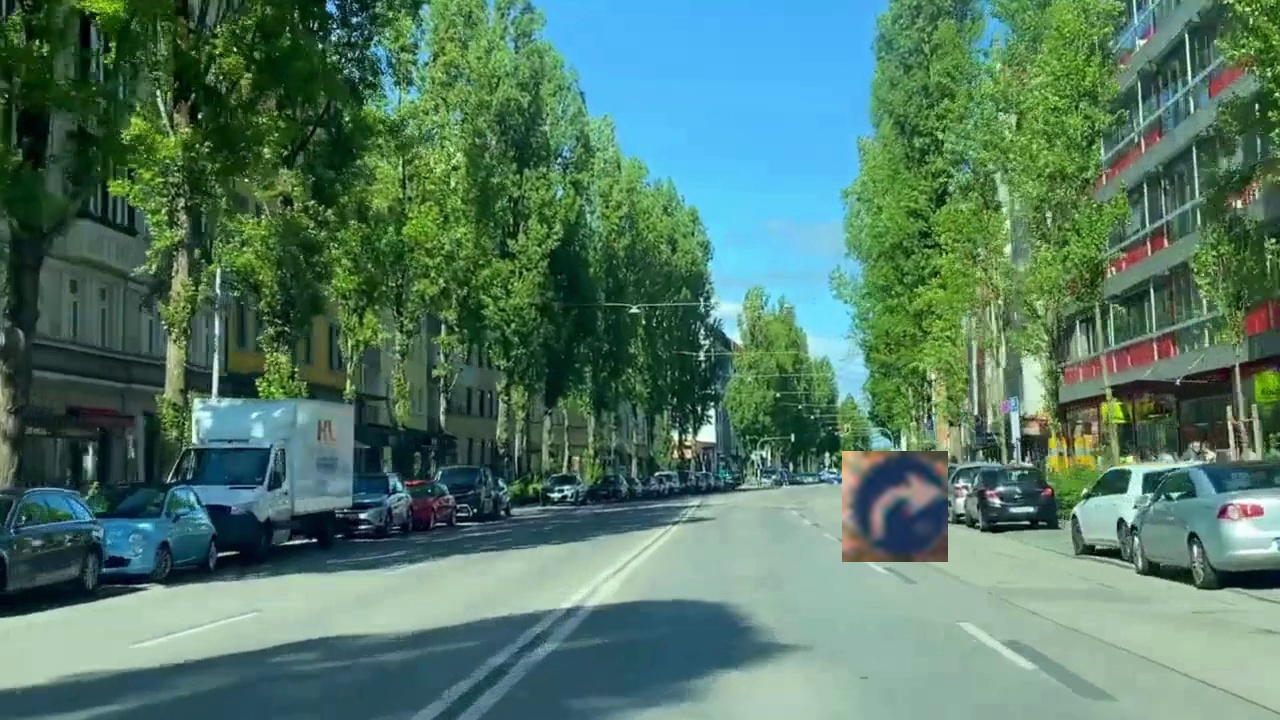Turn right: (842, 451, 948, 562)
